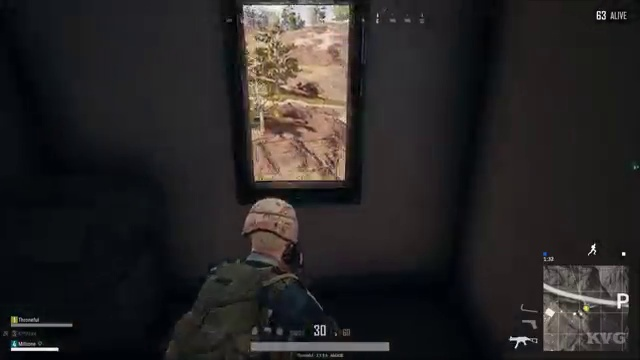Player: (153, 198, 388, 322)
